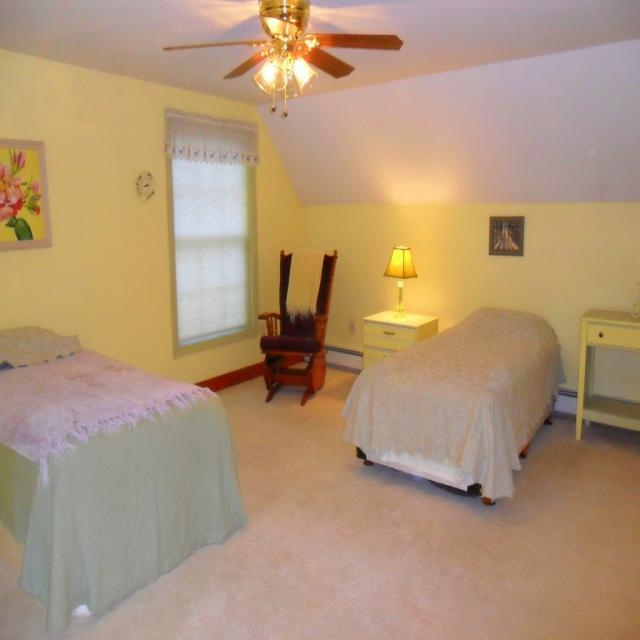Bulb: (162, 0, 403, 116)
